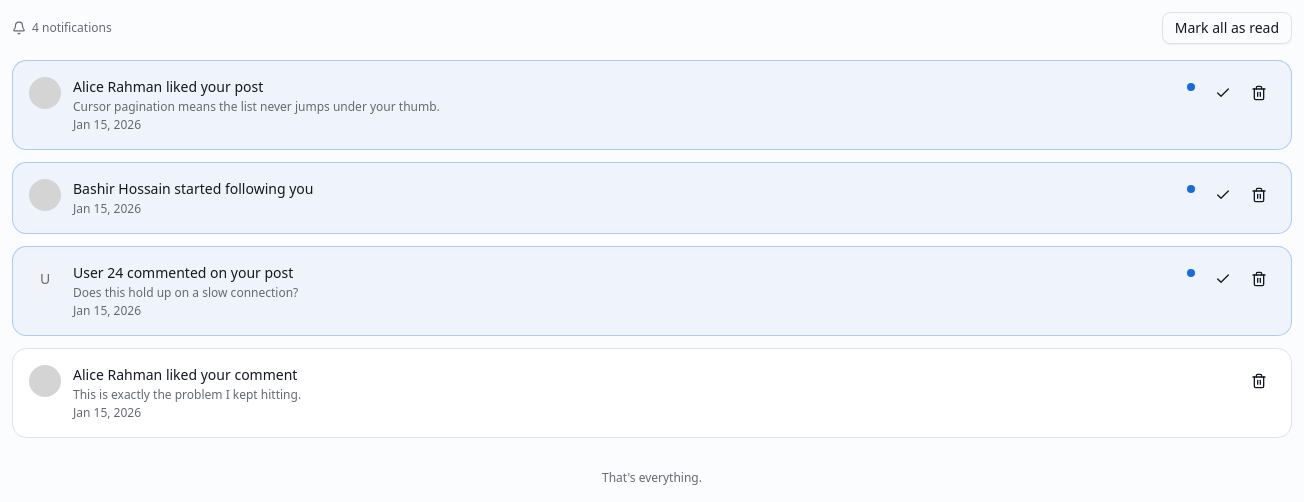
Scenario: NotificationList › marks every unread row read and agrees with the server afterwards
The image size is (1304, 502).
Click the button "Mark all as read": (1227, 28) [1162, 12, 1292, 44]
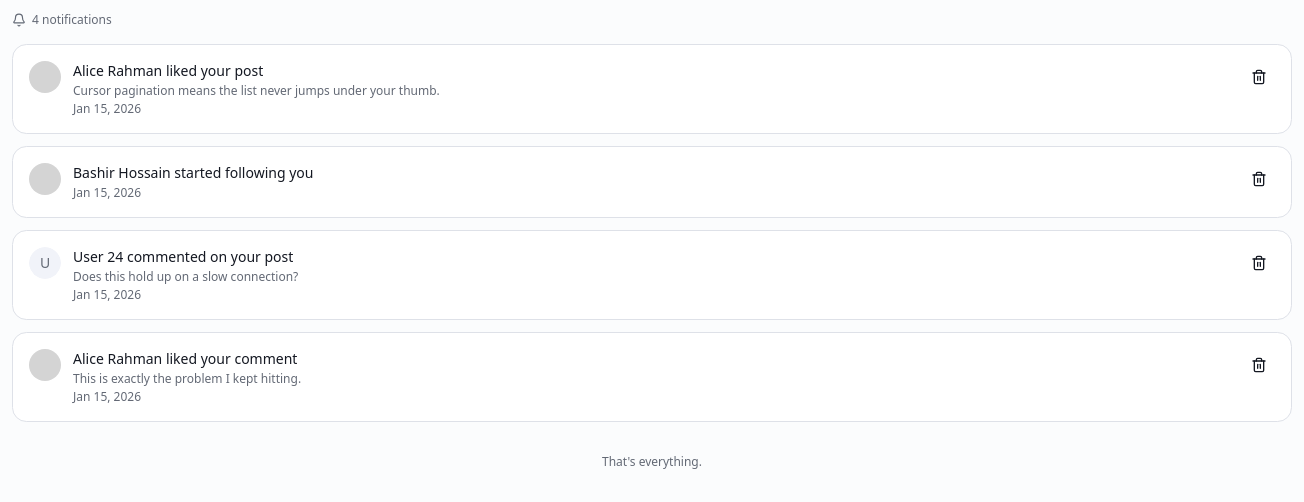
Expected: the number of list items is 4, [12, 44, 1292, 134]; [12, 146, 1292, 218]; [12, 230, 1292, 320]; [12, 332, 1292, 422]
Now the button "Mark all as read" is gone
